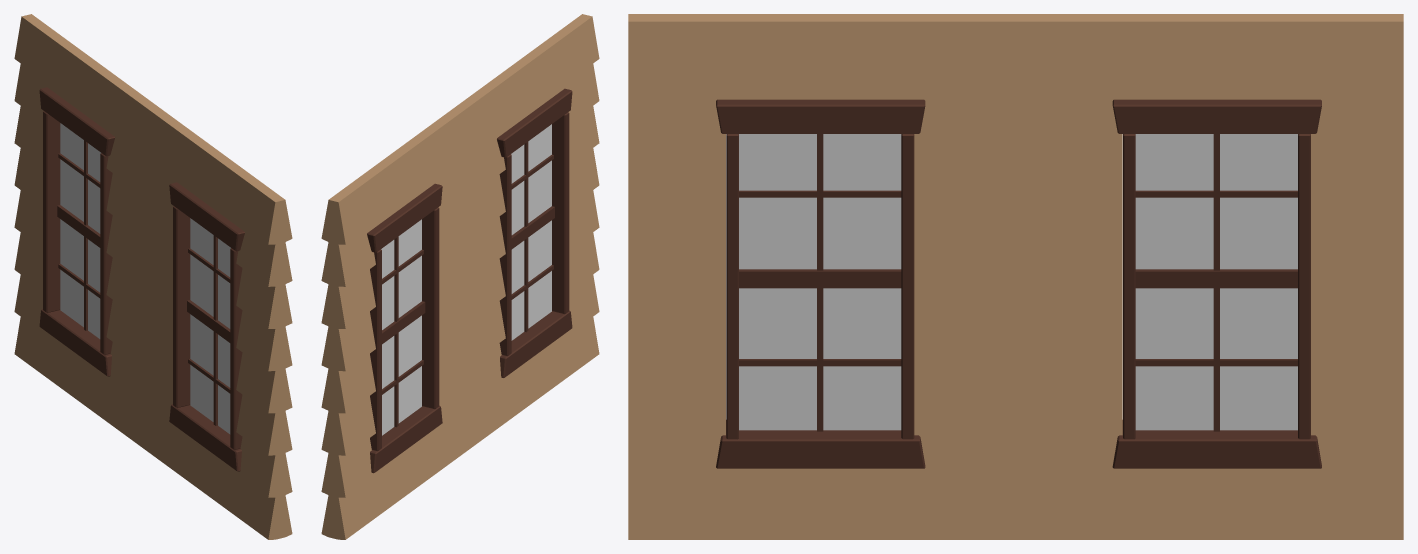
Rendered from Window A-col.glb.
3 views of the same model, side by side, from view 1: azimuth 30°, elevation 25°; view 2: azimuth 150°, elevation 25°; view 3: azimuth 270°, elevation 25° (orthographic). The views are drawn at different scales.
Visible parts, largest first — view 1: Window A-col.001; view 2: Window A-col.001; view 3: Window A-col.001.
Part boxes in pixels (bbox=[...]): Window A-col.001: bbox=[14, 14, 292, 539]; Window A-col.001: bbox=[321, 14, 599, 539]; Window A-col.001: bbox=[628, 14, 1403, 539].
Bounding box in the file's own units: 0.1948 × 2.2 × 3.
